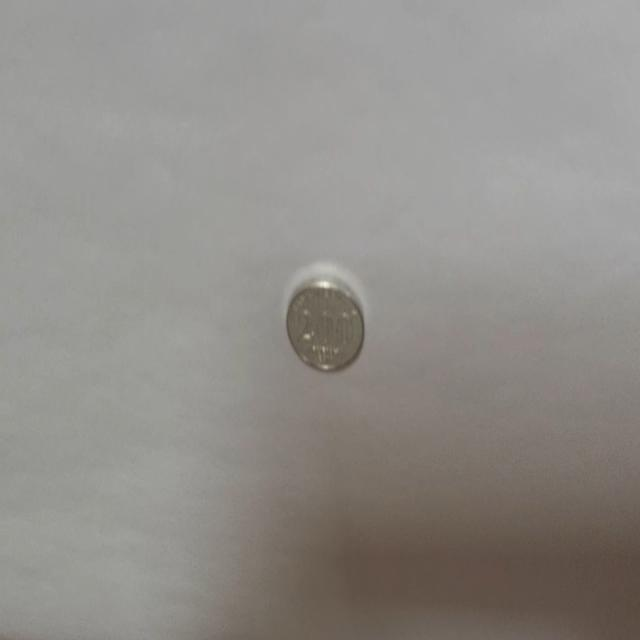dua ratus rupiah: (285, 275, 365, 373)
